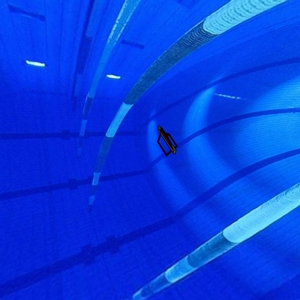submarine: (153, 122, 183, 161)
